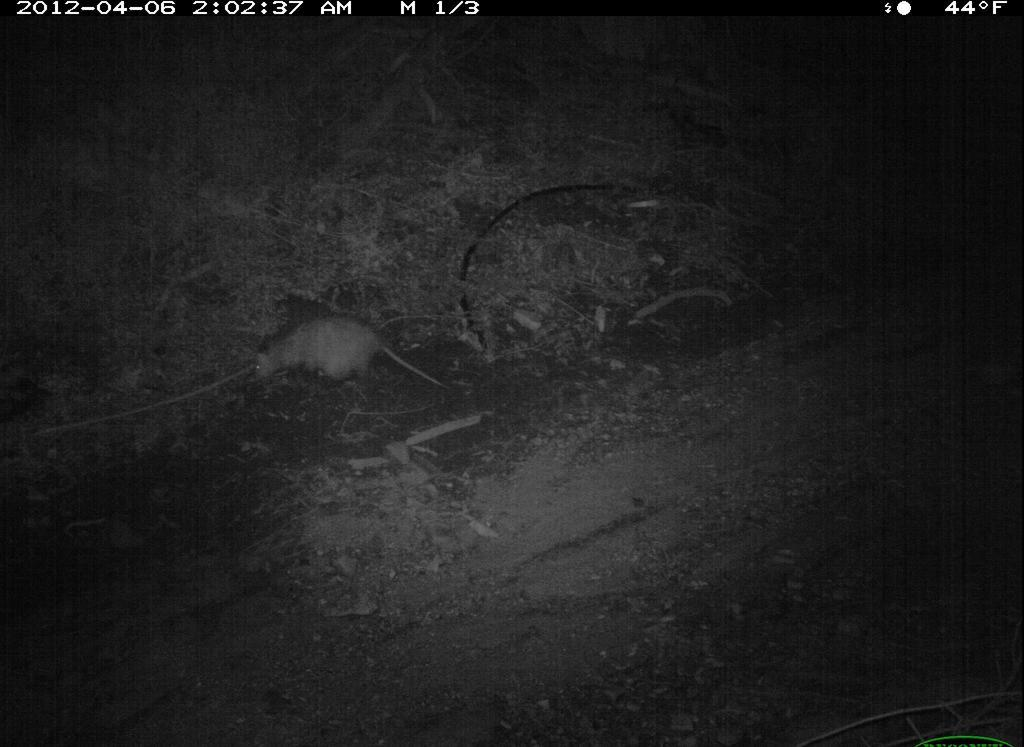opossum: (251, 269, 456, 433)
